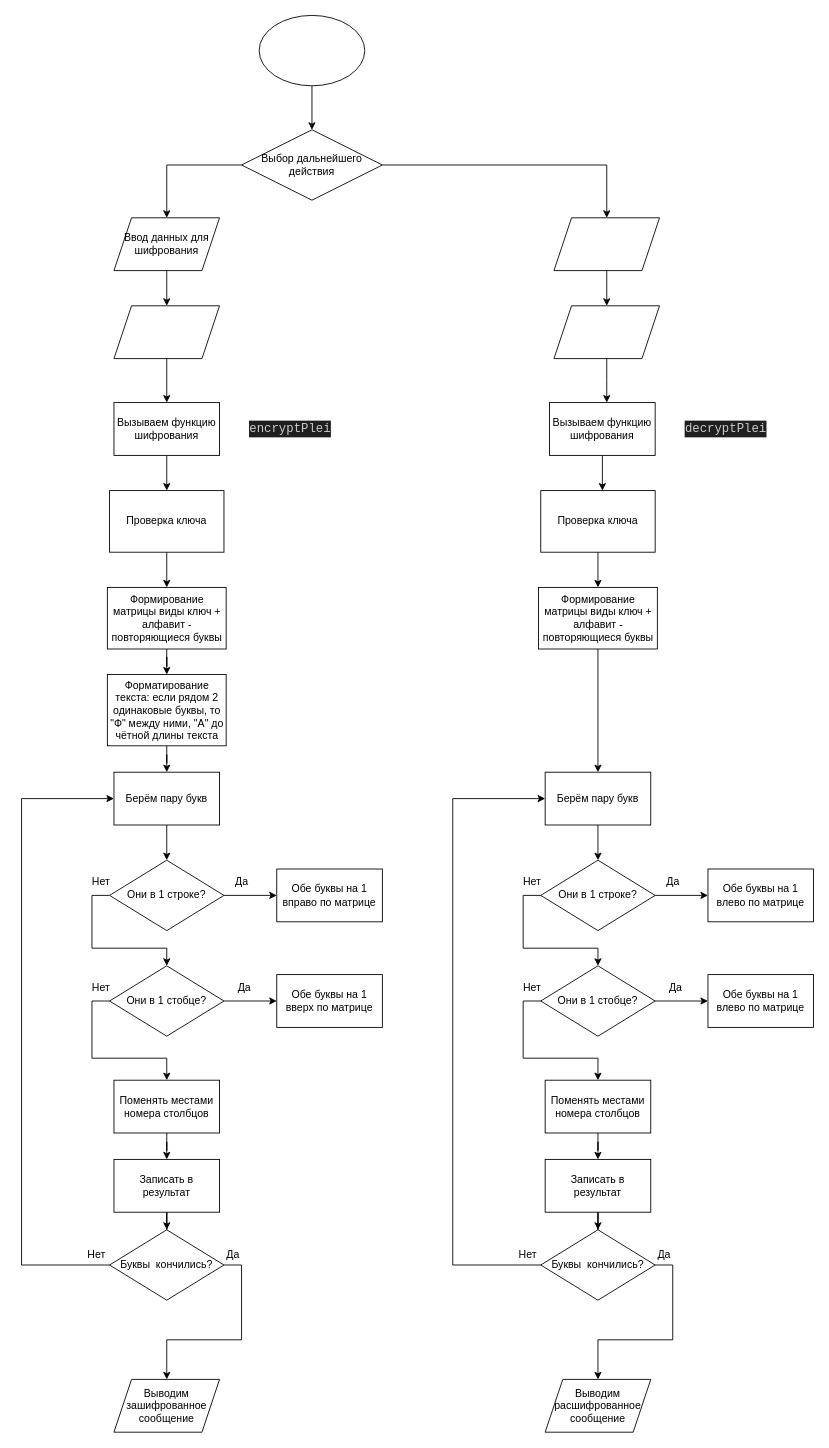
This 829x1448 diagram has some shape labels left out. The shapes that lost their labels are listed below. From the top down, each one's centre as x and y in pixels, then its label:
[311,50]: Начало
[606,244]: Ввод данных для расшифрования
[166,332]: Нажатие кнопки "Шифровать"
[606,332]: Нажатие кнопки "Расшифровать"
